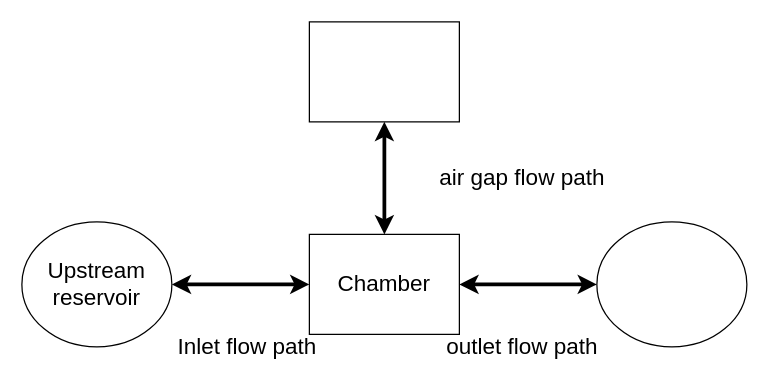
This 769x383 diagram has some shape labels left out. The centre of each missing label's shape, as x and y in pixels:
Air gap: the point at 383,71
Downstream reservoir: the point at 671,284
